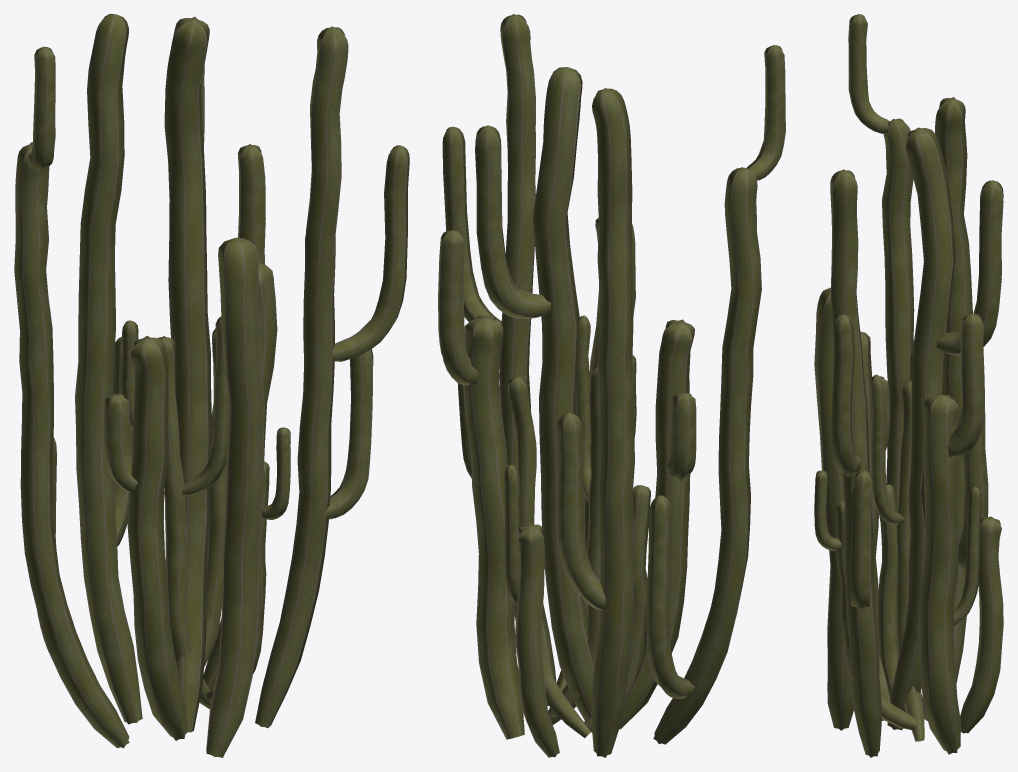
Rendered from cactus_clump_1k.gltf.
3 views of the same model, side by side, from view 1: azimuth 30°, elevation 25°; view 2: azimuth 150°, elevation 25°; view 3: azimuth 270°, elevation 25° (orthographic). The views are drawn at different scales.
Parts seen in each view (by area): view 1: Medium_pack__LOD0, Small_pack__LOD0; view 2: Medium_pack__LOD0, Small_pack__LOD0; view 3: Medium_pack__LOD0, Small_pack__LOD0.
Boxes of the visible parts, x1,y1,x2,y2 form: Medium_pack__LOD0: (14, 14, 409, 757); Small_pack__LOD0: (121, 316, 290, 709); Medium_pack__LOD0: (438, 14, 785, 757); Small_pack__LOD0: (504, 315, 650, 757); Medium_pack__LOD0: (814, 14, 1003, 757); Small_pack__LOD0: (814, 352, 1003, 741).
Size of what is drawn, in the model's own units: 2.08 by 4.03 by 1.07.
Materials: 1 (1 with a texture image).
